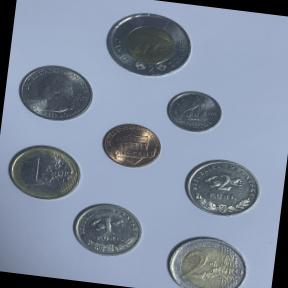1 Euro: (0, 136, 89, 207)
2 Euro: (158, 227, 253, 288)
Canda-10cent-: (162, 85, 228, 139)
Canda-2Dollar-: (97, 5, 198, 86)
Croatia-2Kune-: (178, 154, 265, 222)
US-1cent-: (96, 118, 166, 174)
US-25cent-: (10, 58, 101, 130)
